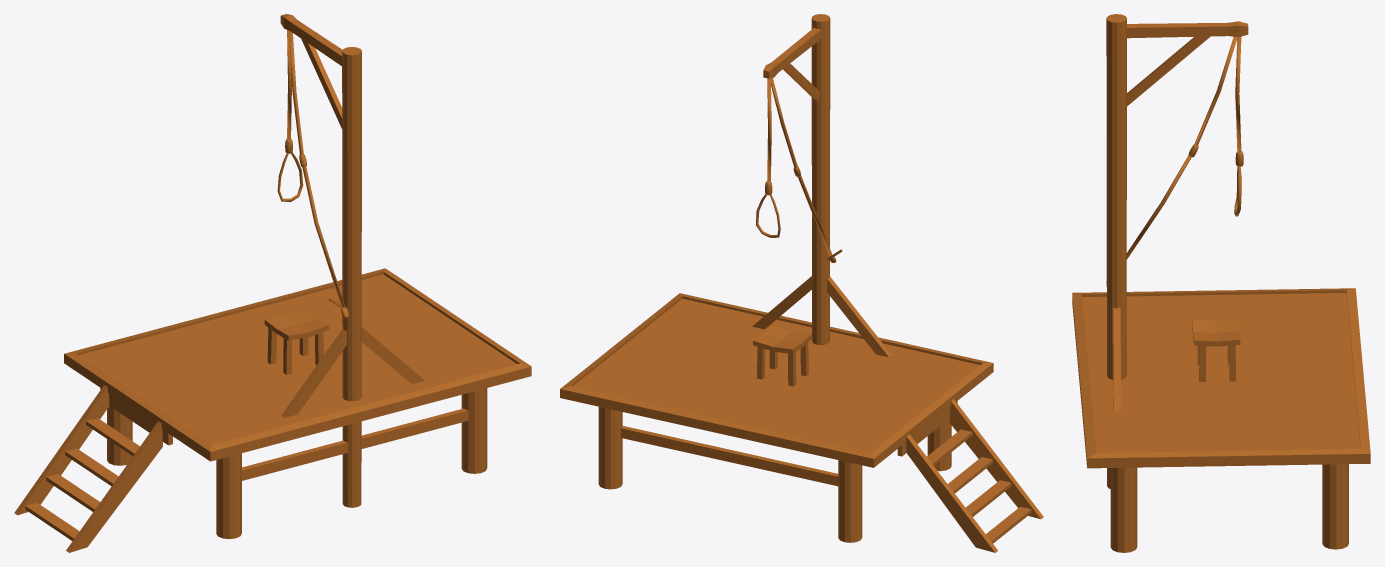
The model's file is Patibolo.fbx.
3 renders of one model, left to right at view 1: azimuth 30°, elevation 25°; view 2: azimuth 150°, elevation 25°; view 3: azimuth 270°, elevation 25°, orthographic. The views are drawn at different scales.
Parts seen in each view (by area): view 1: Cube.002; view 2: Cube.002; view 3: Cube.002.
Boxes of the visible parts, <box> form: Cube.002: <box>14,14,531,552</box>; Cube.002: <box>560,14,1043,552</box>; Cube.002: <box>1072,14,1370,552</box>.
Bounding box in the file's own units: 64.32 × 65.3 × 37.63.
